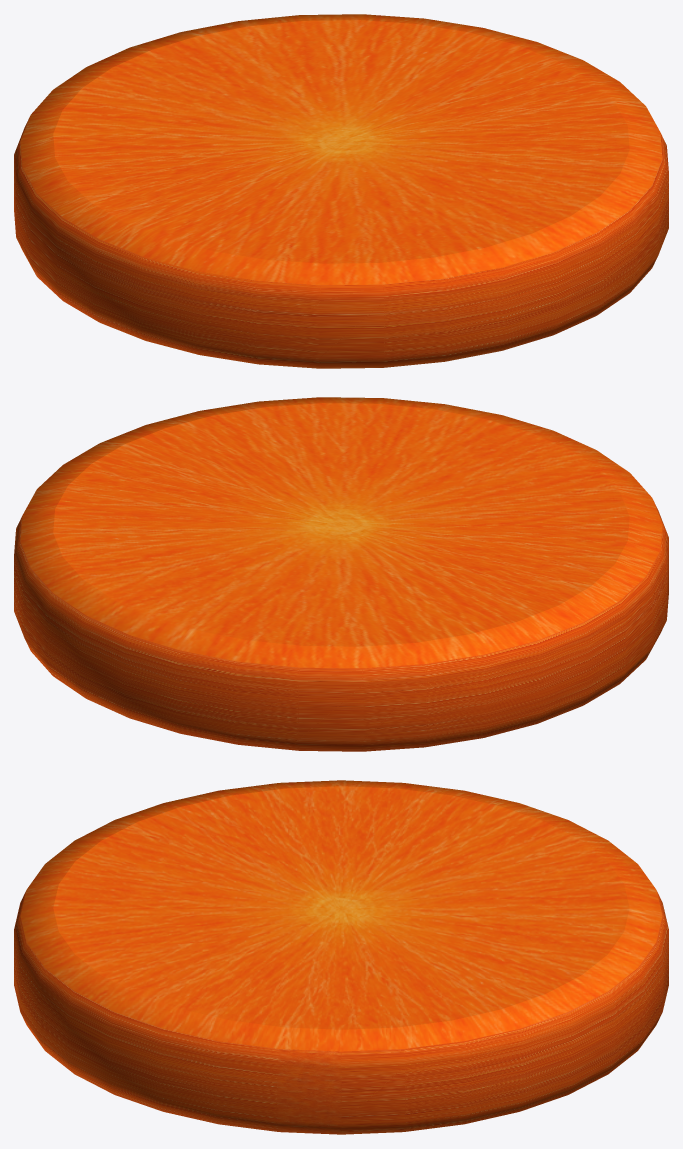
Rendered from carrot_slice_large-BCxU9r2R.glb.
The picture shows the model from 3 angles, top to bottom: view 1: azimuth 30°, elevation 25°; view 2: azimuth 150°, elevation 25°; view 3: azimuth 270°, elevation 25°; orthographic projection.
Parts seen in each view (by area): view 1: FLC_carrot_slice_large; view 2: FLC_carrot_slice_large; view 3: FLC_carrot_slice_large.
Boxes of the visible parts, left/top/right/bottom form: FLC_carrot_slice_large: left=14, top=14, right=668, bottom=368; FLC_carrot_slice_large: left=14, top=397, right=668, bottom=751; FLC_carrot_slice_large: left=14, top=780, right=668, bottom=1134.
Size of the model in its own units: 1.2 by 0.2 by 1.2.
1 material, 1 textured.
